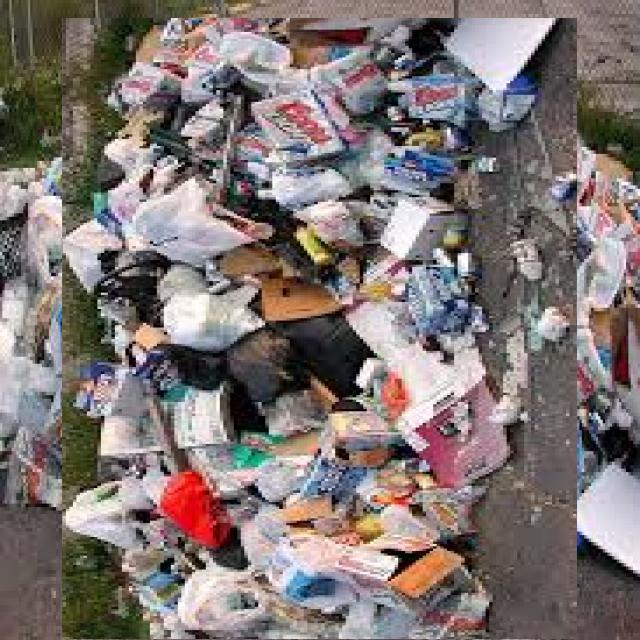garbage: (31, 49, 609, 626)
